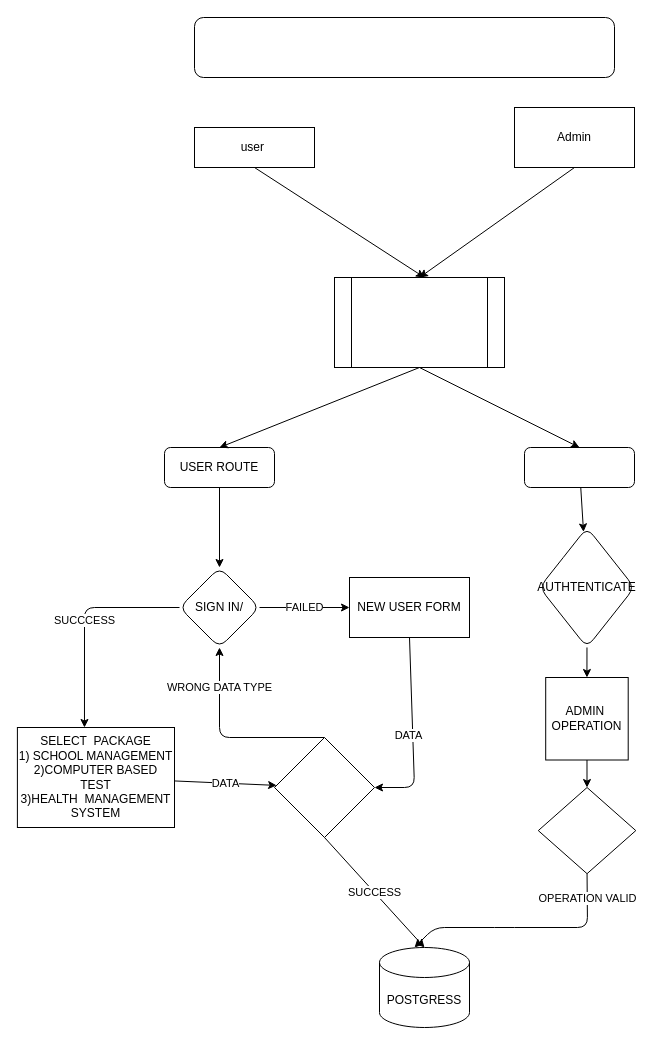
This 654x1045 diagram has some shape labels left out. The shapes that lost their labels are listed below. From the top down, each one's centre as x and y in pixels, then its label:
At (404,47): "CENTRAL CUSTOMER MANAGEMENT SYSTEM STORAGE".
At (419,322): "CENTRAL CUSTOMER MANAGEMENT SYSTEM STORAGE API".
At (579,467): "ADMIN ROUTE".
At (324,787): "VERIFY DATA TYPE".
At (586,830): "VERIFY OPERATION".
